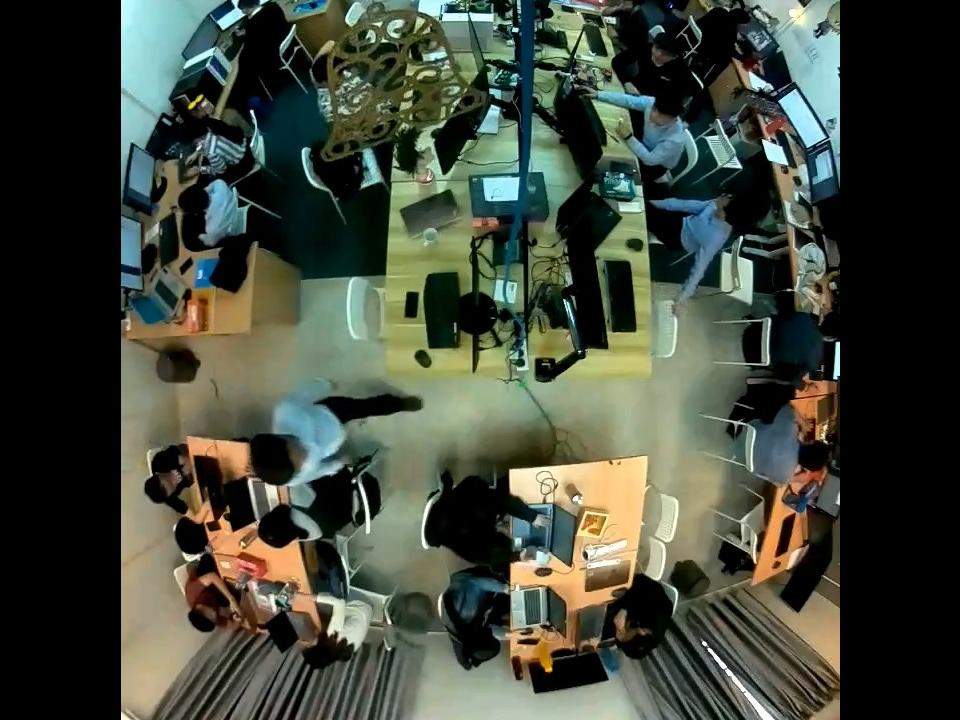name-tag: (311, 424, 322, 446)
